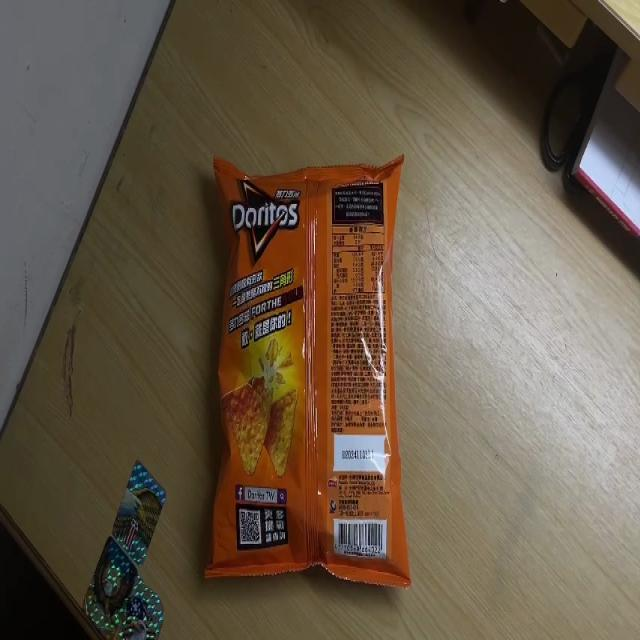Doritos: (202, 153, 412, 588)
